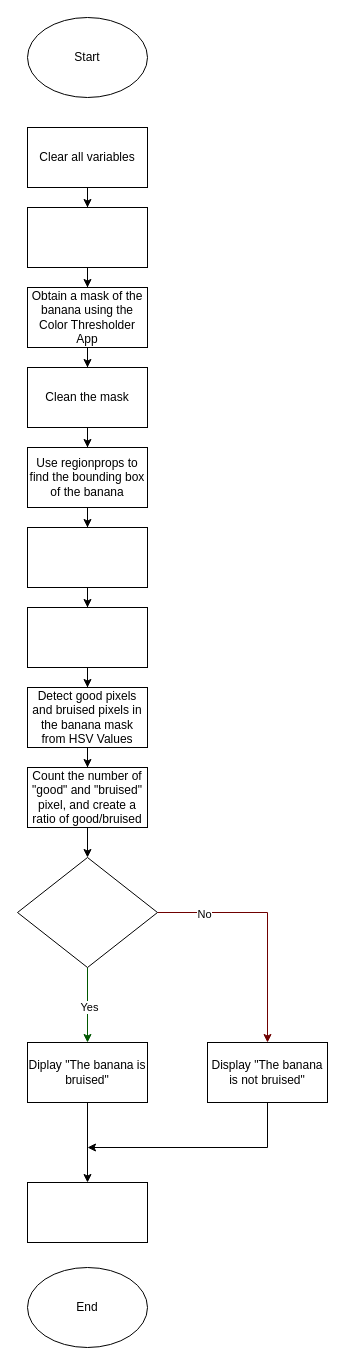
This 345x1365 diagram has some shape labels left out. The shapes that lost their labels are listed below. From the top down, each one's box as (x1, y1, x2, y2) in pixels, then its label:
(26, 206, 148, 268): Read in the image
(26, 526, 148, 588): Crop the image to the banana's bounding box for better detection
(26, 606, 148, 668): Convert the image to HSV format for better color processing
(16, 856, 158, 968): Is the bruise ratio larger than 0.3?
(26, 1182, 148, 1242): Display all figures needed
